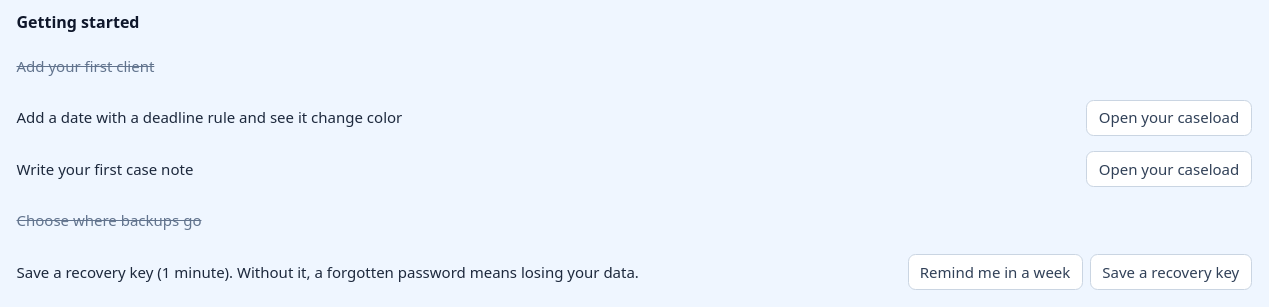
Test: GettingStartedCard › "Remind me in a week" puts off the recovery key
The image size is (1269, 307).
Click the button "Remind me in a week": (995, 272) [908,254,1082,290]
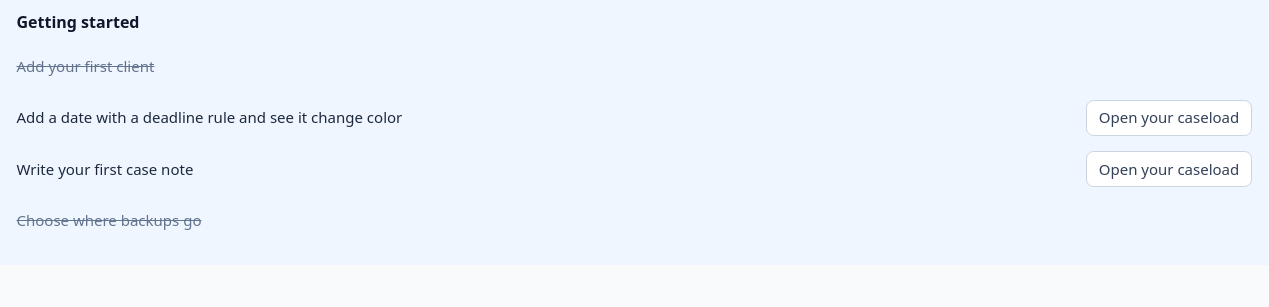
expect the button "Save a recovery key" is gone: met
